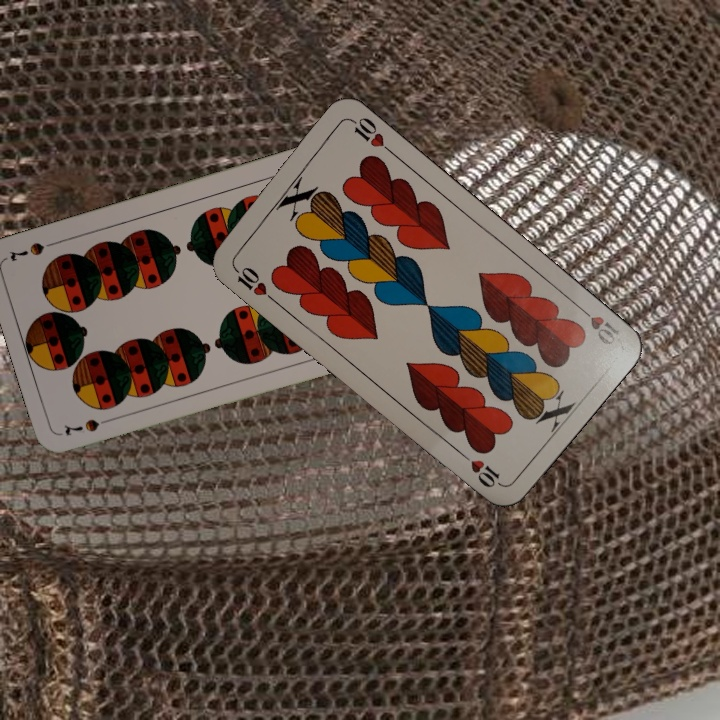H10: (573, 301, 622, 348), (228, 261, 278, 304)
S7: (60, 413, 118, 438)
